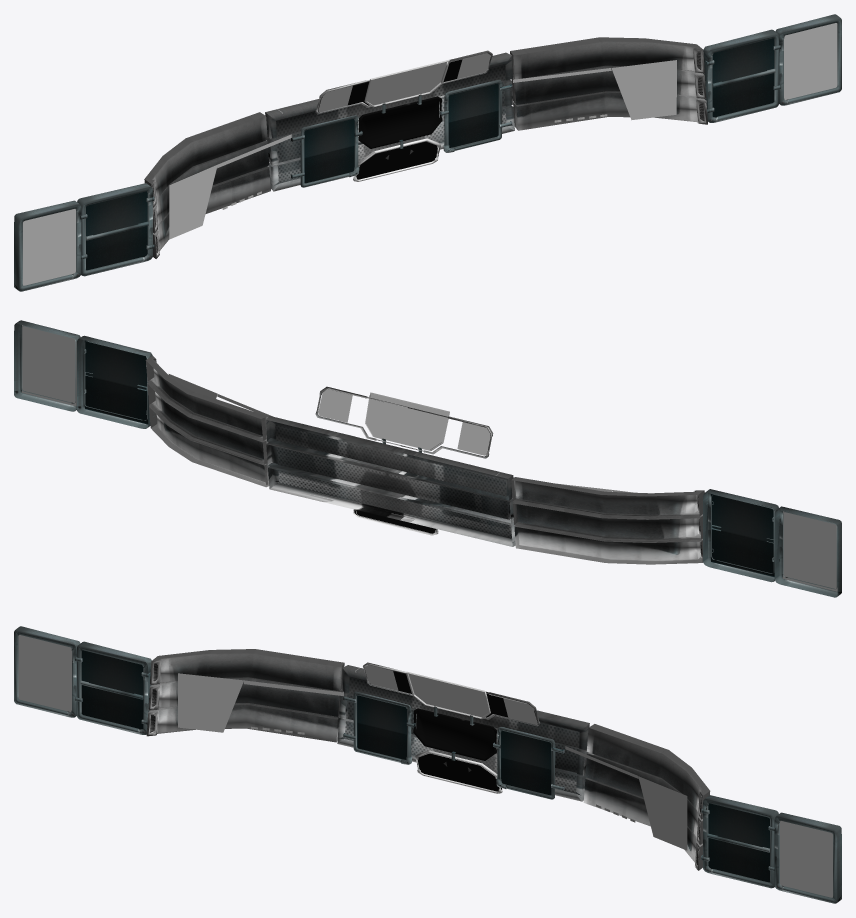
Rendered from scoreboard_MLB.fbx.
3 views of the same model, one above another, from view 1: azimuth 30°, elevation 25°; view 2: azimuth 150°, elevation 25°; view 3: azimuth 330°, elevation 25° (orthographic).
Visible parts, largest first — view 1: scoreboard_base, teamHeadshotDataFrame_L_geo, teamHeadshotDataFrame_R_geo, teamHeadshot_L_geo, teamHeadshot_R_geo, teamTile_L_tile_geo, teamTile_R_tile_geo, center_screen_geo, teamHeadshotFrame_R_geo, teamHeadshotFrame_L_geo, sponsorship_R_screen_geo, sponsorship_L_screen_geo; view 2: scoreboard_base, teamHeadshotDataFrame_R_geo, teamHeadshotDataFrame_L_geo, teamHeadshot_L_geo, teamHeadshot_R_geo, center_screen_geo, teamHeadshotFrame_R_geo, teamHeadshotFrame_L_geo, sponsorship_L_screen_geo, sponsorship_R_screen_geo; view 3: scoreboard_base, teamHeadshotDataFrame_R_geo, teamHeadshotDataFrame_L_geo, teamTile_R_tile_geo, teamHeadshot_R_geo, teamHeadshot_L_geo, teamTile_L_tile_geo, center_screen_geo, teamHeadshotFrame_L_geo, teamHeadshotFrame_R_geo, sponsorship_R_screen_geo, sponsorship_L_screen_geo.
Part boxes in pixels (x1,y1,x2,y2): scoreboard_base: [144, 37, 707, 258]; teamHeadshotDataFrame_L_geo: [703, 29, 780, 122]; teamHeadshotDataFrame_R_geo: [77, 183, 154, 276]; teamHeadshot_L_geo: [784, 23, 837, 99]; teamHeadshot_R_geo: [23, 209, 75, 285]; teamTile_L_tile_geo: [513, 60, 676, 120]; teamTile_R_tile_geo: [169, 134, 291, 239]; center_screen_geo: [364, 60, 449, 107]; teamHeadshotFrame_R_geo: [14, 200, 81, 291]; teamHeadshotFrame_L_geo: [775, 14, 841, 105]; sponsorship_R_screen_geo: [318, 85, 352, 112]; sponsorship_L_screen_geo: [457, 53, 490, 78]; scoreboard_base: [145, 355, 704, 564]; teamHeadshotDataFrame_R_geo: [703, 489, 780, 582]; teamHeadshotDataFrame_L_geo: [77, 335, 153, 428]; teamHeadshot_L_geo: [22, 325, 76, 406]; teamHeadshot_R_geo: [783, 511, 837, 591]; center_screen_geo: [365, 392, 449, 450]; teamHeadshotFrame_R_geo: [774, 506, 841, 597]; teamHeadshotFrame_L_geo: [14, 320, 80, 411]; sponsorship_L_screen_geo: [318, 388, 352, 422]; sponsorship_R_screen_geo: [457, 422, 490, 455]; scoreboard_base: [146, 649, 710, 870]; teamHeadshotDataFrame_R_geo: [75, 641, 151, 734]; teamHeadshotDataFrame_L_geo: [701, 795, 778, 888]; teamTile_R_tile_geo: [178, 673, 343, 732]; teamHeadshot_R_geo: [18, 635, 71, 711]; teamHeadshot_L_geo: [780, 821, 832, 897]; teamTile_L_tile_geo: [565, 746, 687, 850]; center_screen_geo: [406, 671, 490, 719]; teamHeadshotFrame_L_geo: [774, 812, 841, 903]; teamHeadshotFrame_R_geo: [14, 626, 80, 717]; sponsorship_R_screen_geo: [365, 665, 398, 690]; sponsorship_L_screen_geo: [503, 698, 537, 724].
Size of the model in its own units: 1478 by 196 by 147.
